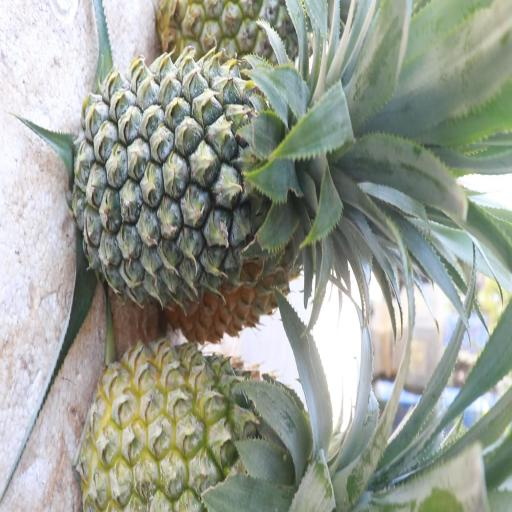------------------------------: (86, 346, 308, 512)
